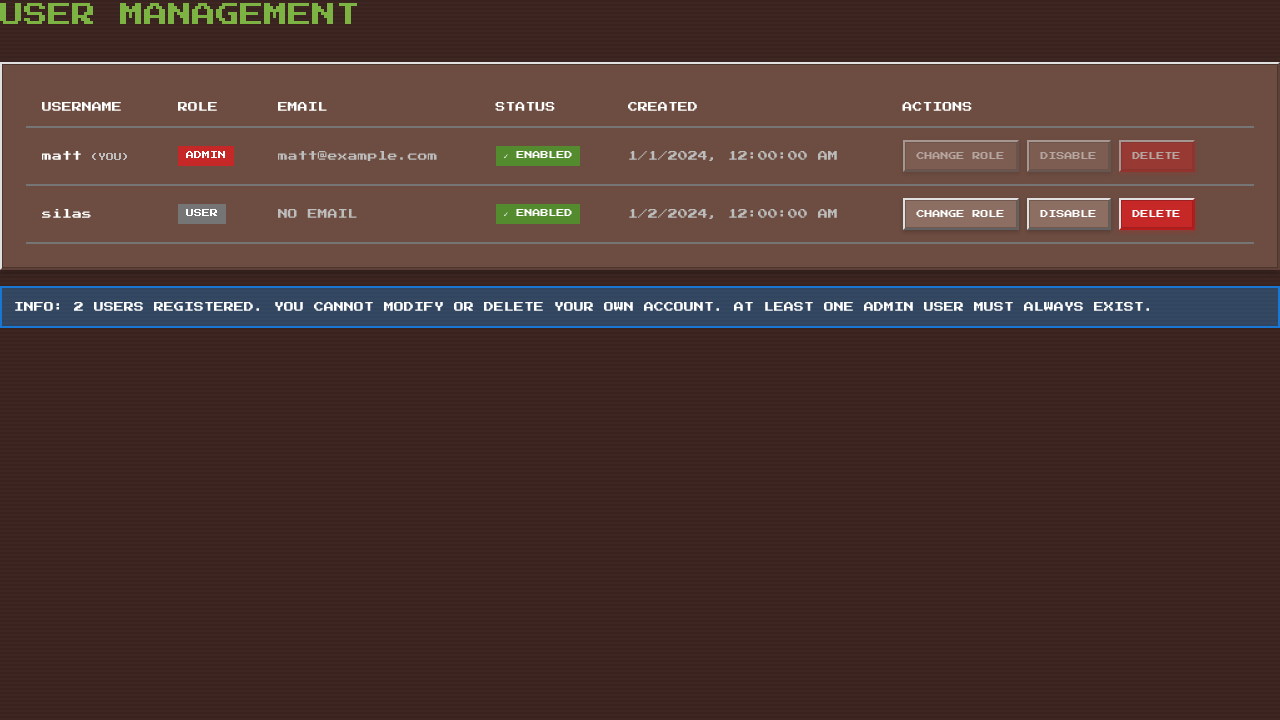
Test case: Users › closes the role modal on Escape
Expected: the text "silas" is shown, x1=26 y1=185 x2=162 y2=243
Step 1. Click the button "CHANGE ROLE" in the row of "silas" → (960, 214), box x1=902 y1=198 x2=1018 y2=230
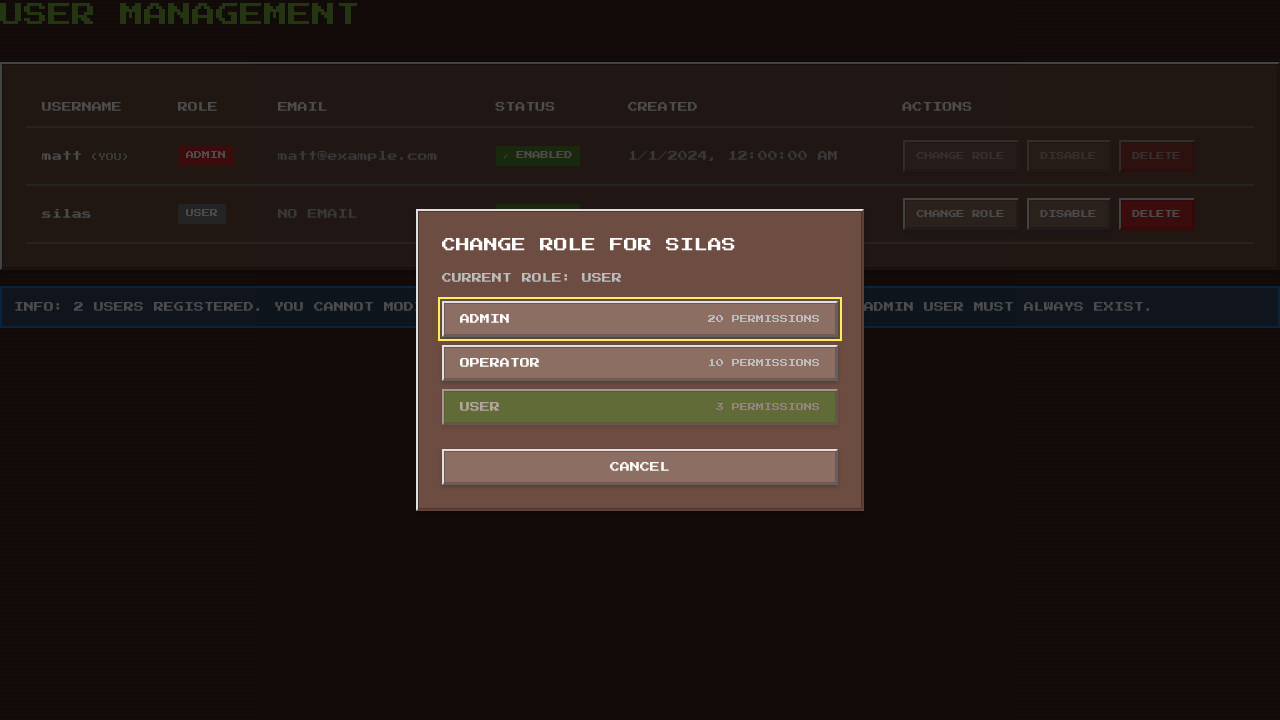
Expected: the dialog is shown, x1=416 y1=209 x2=864 y2=511
Step 2. Press Escape
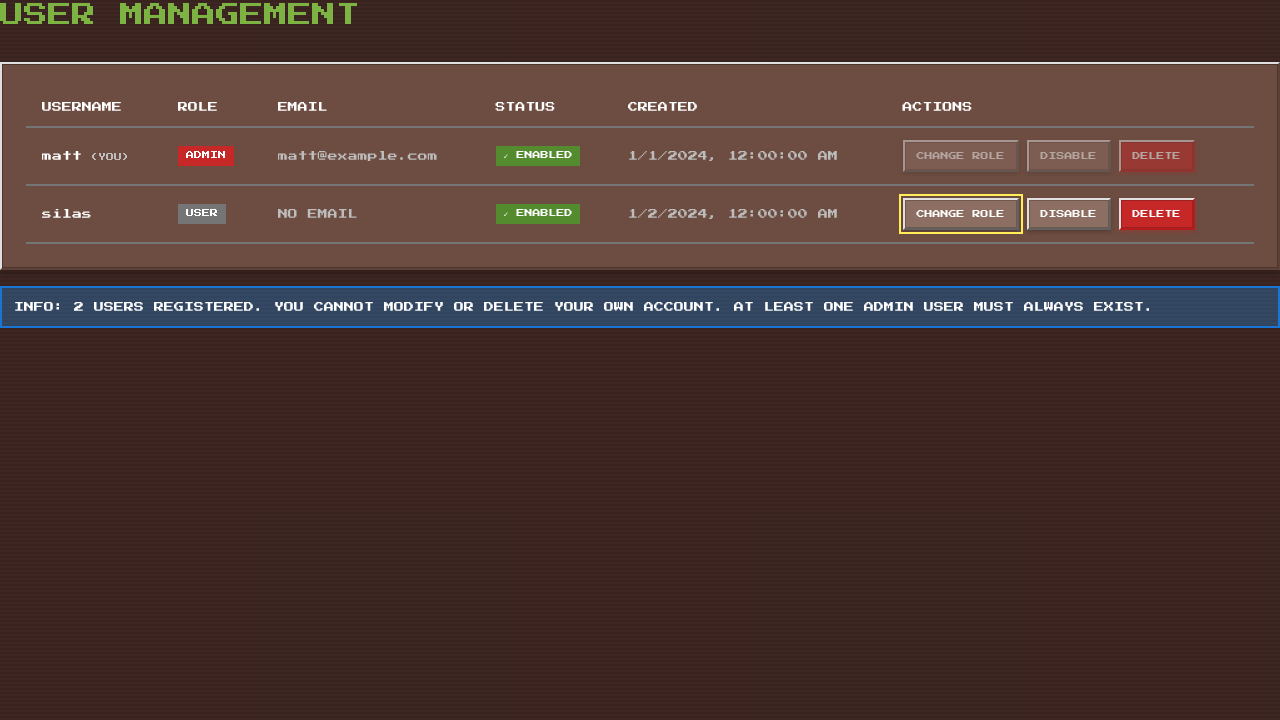
Expected: the dialog is gone
